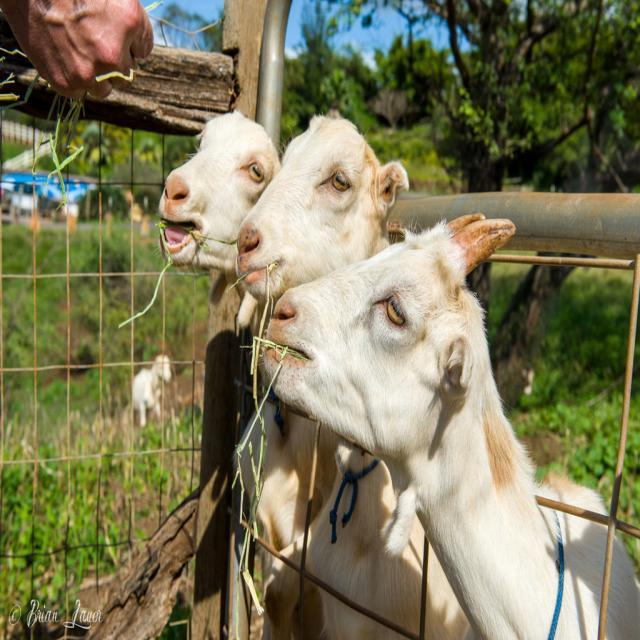Goat: (257, 211, 639, 638), (131, 353, 172, 429)
